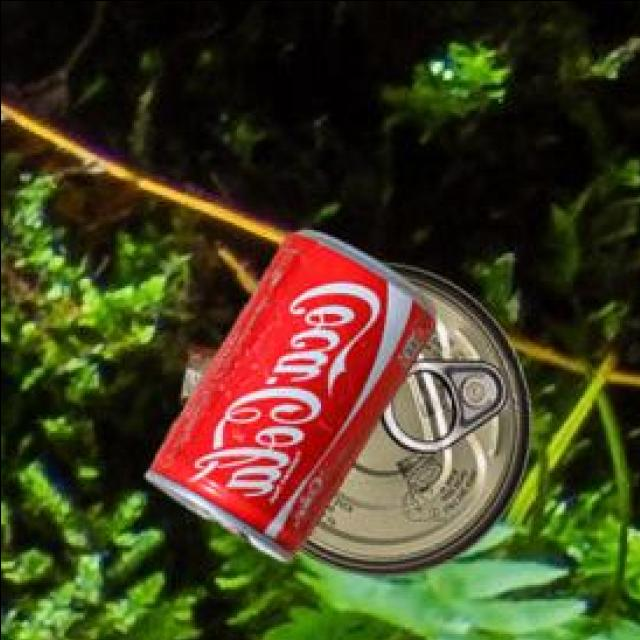logam: (141, 232, 431, 564), (295, 265, 527, 578), (176, 347, 214, 408)
